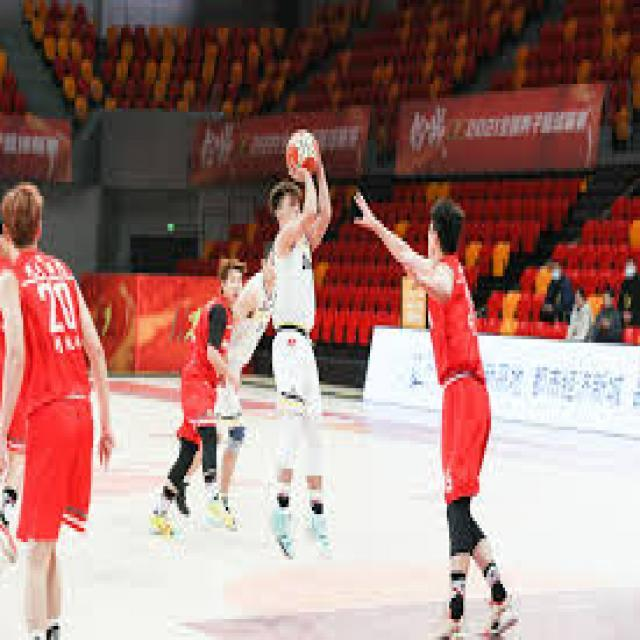rim: (288, 129, 319, 182)
